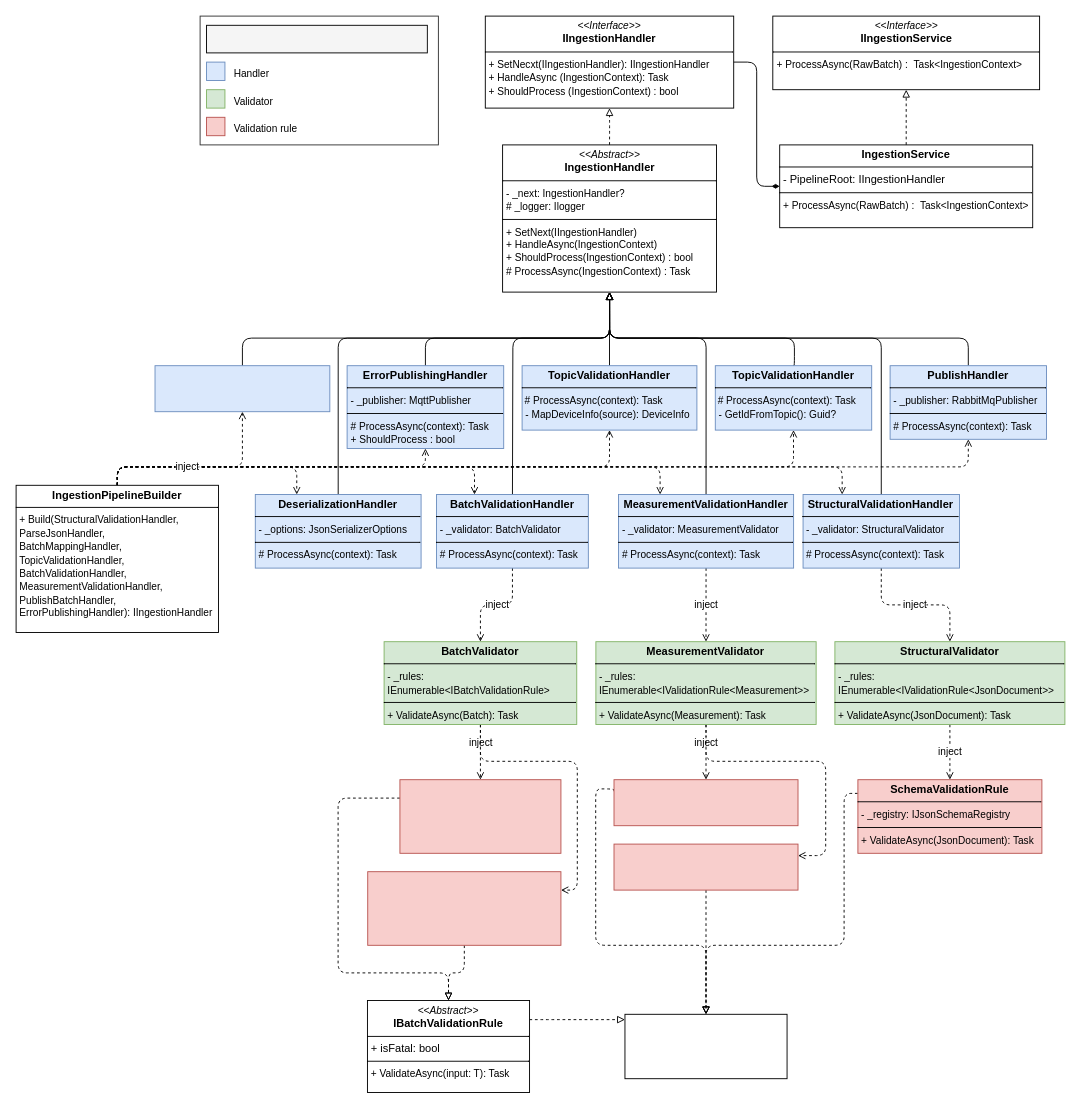
This 1081x1109 diagram has some shape labels left out. The centre of each missing label's shape, as x and y in pixels:
<<Abstract>> IValidationRule<T> + ValidateAsync(input: T): Task: (x=705, y=1046)
BatchContainsMeasurementsRule + isFatal: bool + ValidateAsync(Batch): Task: (x=464, y=908)
CorrectUnitRule + ValidateAsync(Measurement): Task: (x=705, y=802)
DeviceReportedNotInFutureRule + ValidateAsync(Measurement): Task: (x=705, y=866)
Legend: (x=316, y=38)
ParseJsonHandler # ProcessAsync(context): Task: (x=242, y=388)
PatientActiveRule + isFatal: bool + ValidateAsync(Batch): Task: (x=480, y=816)
